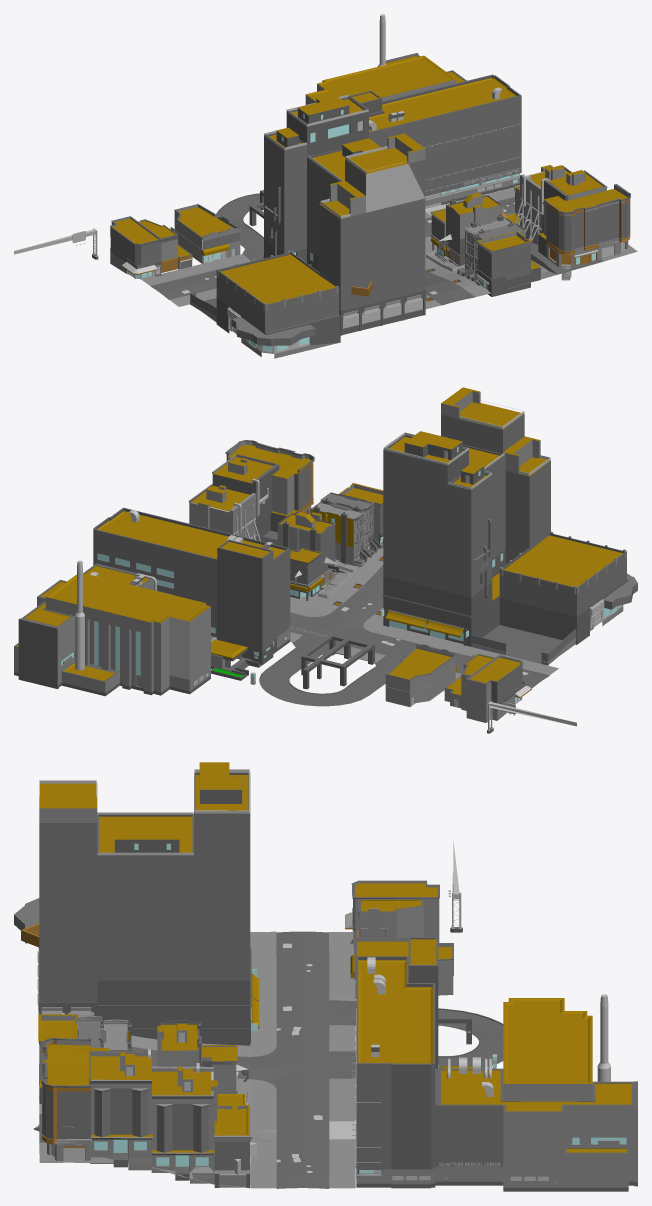
The model's file is brook_n_4.FBX.
3 views of the same model, one above another, from view 1: azimuth 30°, elevation 25°; view 2: azimuth 150°, elevation 25°; view 3: azimuth 270°, elevation 25° (orthographic). The views are drawn at different scales.
Visible parts, largest first — view 1: unnamed, null; view 2: unnamed, null; view 3: unnamed, null.
Boxes of the visible parts, x1,y1,x2,y2 form: unnamed: (14,14,521,358); null: (425,165,637,309); unnamed: (14,387,637,733); null: (188,440,383,636); unnamed: (14,762,637,1191); null: (33,1014,315,1188).
Size of the model in its own units: 173 by 63 by 142.
